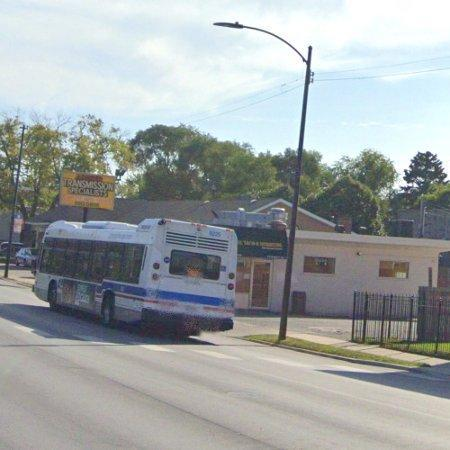buses: (34, 219, 238, 336)
